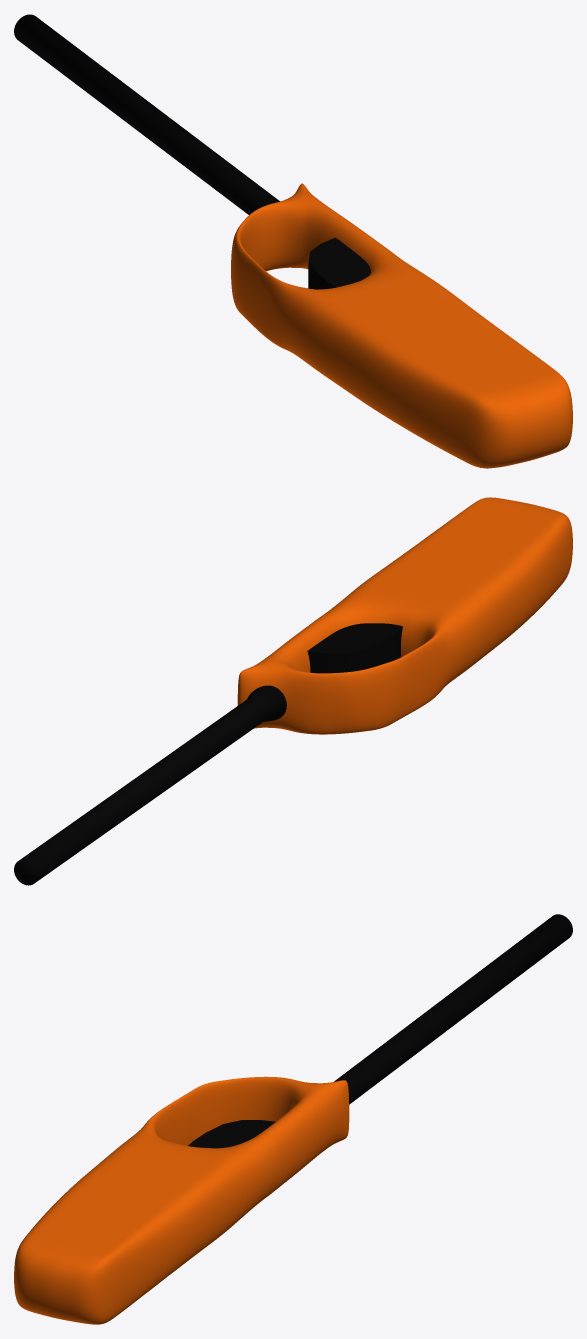
The model's file is lighter.glb.
3 renders of one model, top to bottom at view 1: azimuth 30°, elevation 25°; view 2: azimuth 150°, elevation 25°; view 3: azimuth 330°, elevation 25°, orthographic. The views are drawn at different scales.
Visible parts, largest first — view 1: Plane_3, Cylinder_4, Cube_5; view 2: Plane_3, Cylinder_4, Cube_5; view 3: Plane_3, Cylinder_4, Cube_5.
Part boxes in pixels (x1,y1,x2,y2): Plane_3: [231, 183, 572, 468]; Cylinder_4: [14, 14, 279, 214]; Cube_5: [308, 237, 370, 289]; Plane_3: [237, 497, 572, 734]; Cylinder_4: [14, 685, 286, 885]; Cube_5: [307, 623, 402, 673]; Plane_3: [14, 1076, 349, 1324]; Cylinder_4: [334, 914, 572, 1104]; Cube_5: [188, 1120, 275, 1148].
Bounding box in the file's own units: 0.0435 × 0.0236 × 0.2992.
